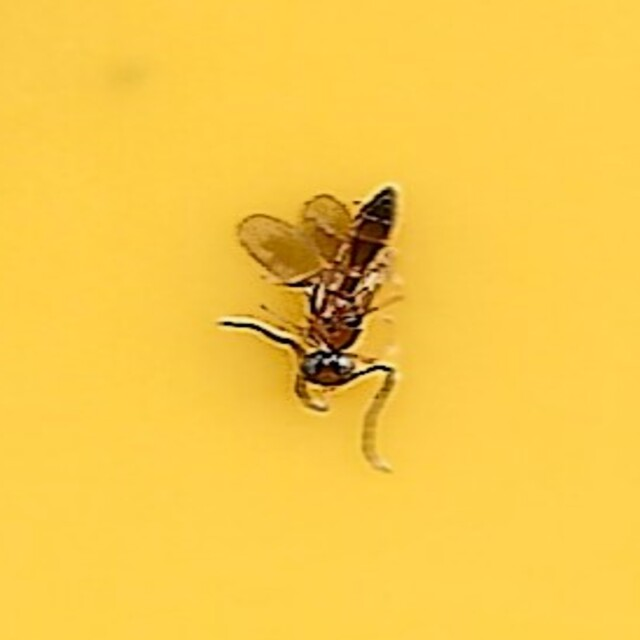Hymenoptera: (234, 183, 406, 457)
